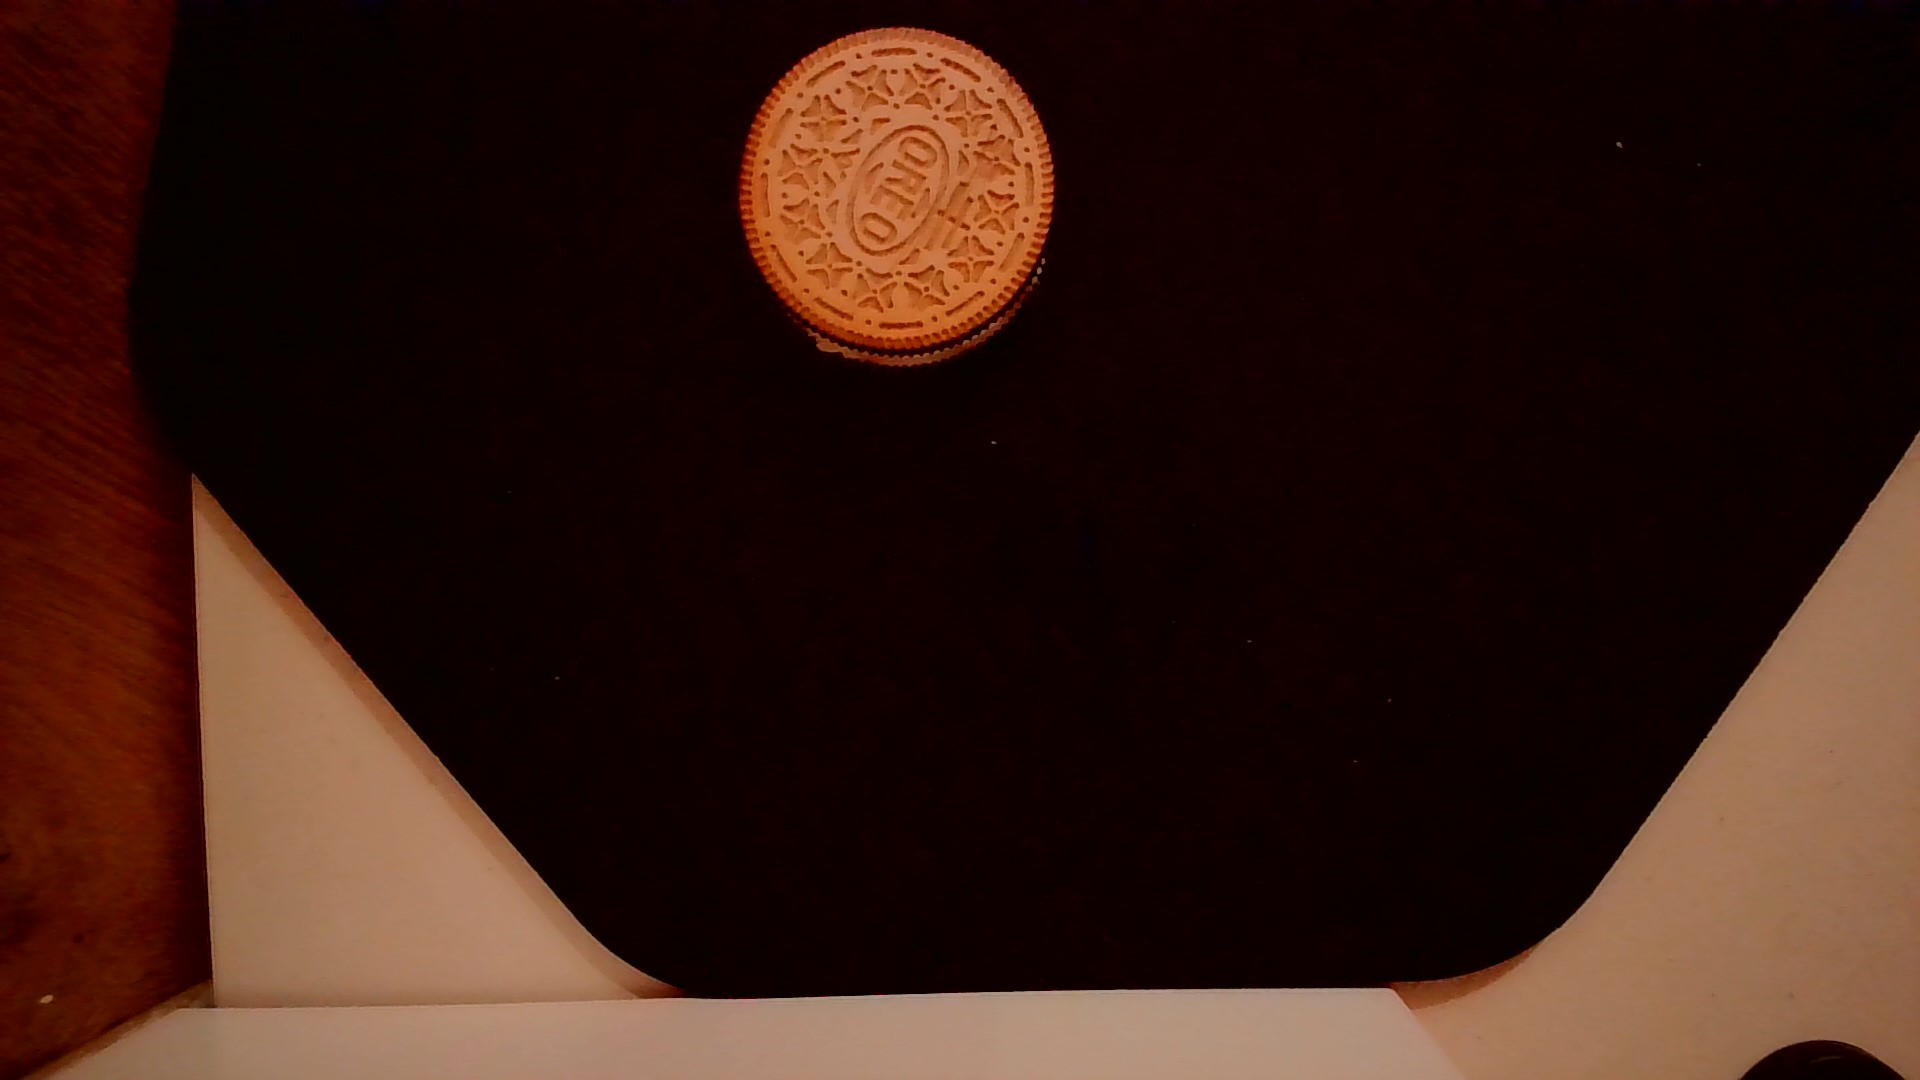Oréo: (725, 20, 1069, 375)
